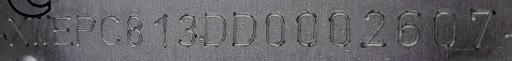letter: (464, 8, 498, 49), (392, 7, 424, 48), (197, 7, 229, 48), (358, 8, 390, 49), (428, 8, 460, 49), (229, 9, 257, 48), (262, 9, 290, 48), (326, 8, 352, 49), (294, 9, 320, 48), (96, 12, 124, 47), (72, 11, 98, 48), (28, 12, 54, 49), (5, 13, 31, 48), (175, 10, 199, 47), (122, 12, 146, 47), (50, 13, 74, 48), (152, 10, 172, 49)
